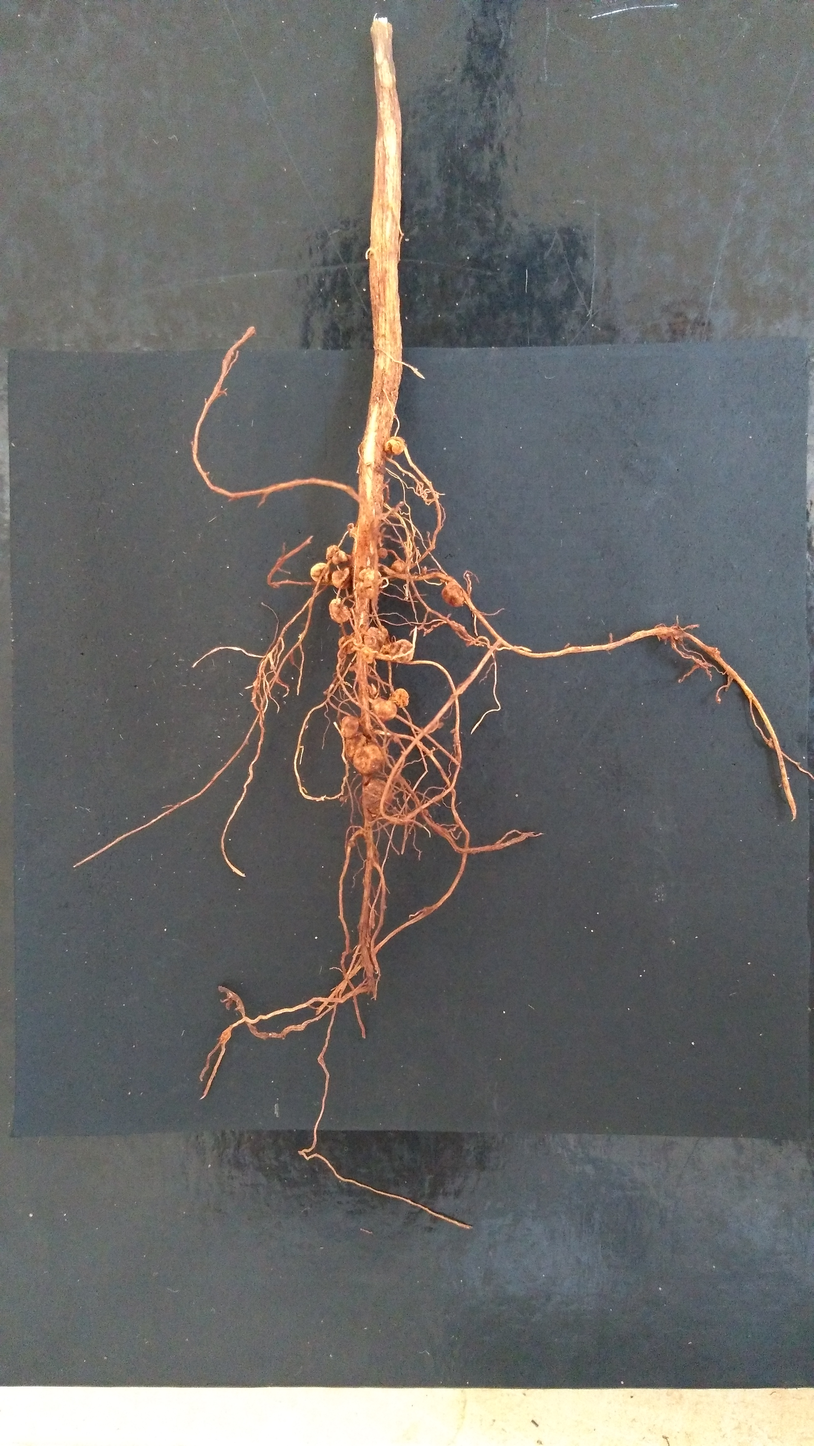nodule: (363, 779, 395, 814), (353, 745, 385, 773), (355, 569, 383, 599), (346, 731, 366, 766), (441, 580, 466, 607), (341, 716, 370, 738), (372, 697, 397, 721), (389, 640, 415, 663), (364, 626, 386, 653), (329, 598, 351, 623), (331, 567, 353, 589), (326, 545, 347, 565), (384, 436, 405, 455), (310, 563, 329, 584), (338, 635, 357, 655), (391, 688, 409, 708), (390, 559, 405, 581), (361, 645, 378, 664), (379, 642, 394, 655), (220, 1029, 232, 1042), (377, 625, 388, 639), (377, 547, 387, 559), (346, 839, 356, 848), (347, 523, 354, 534), (370, 683, 377, 694), (350, 632, 359, 639), (423, 808, 429, 817), (450, 728, 456, 734), (339, 796, 345, 802), (349, 666, 355, 671), (322, 691, 327, 696)
